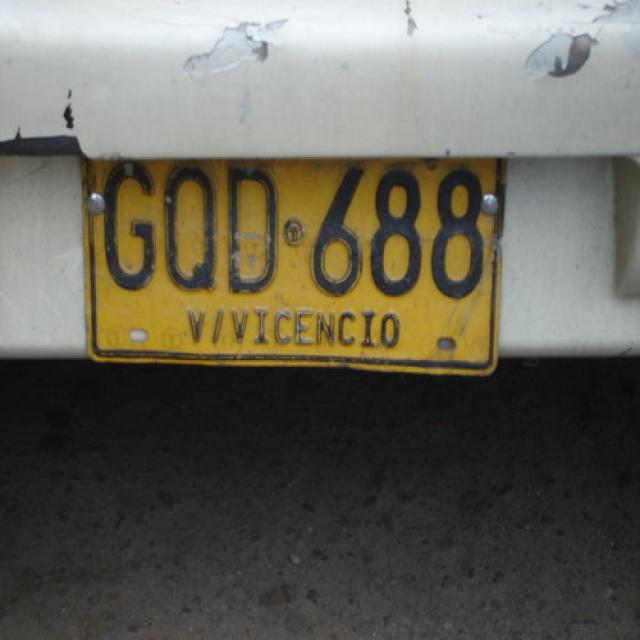placas: (86, 153, 504, 301)
